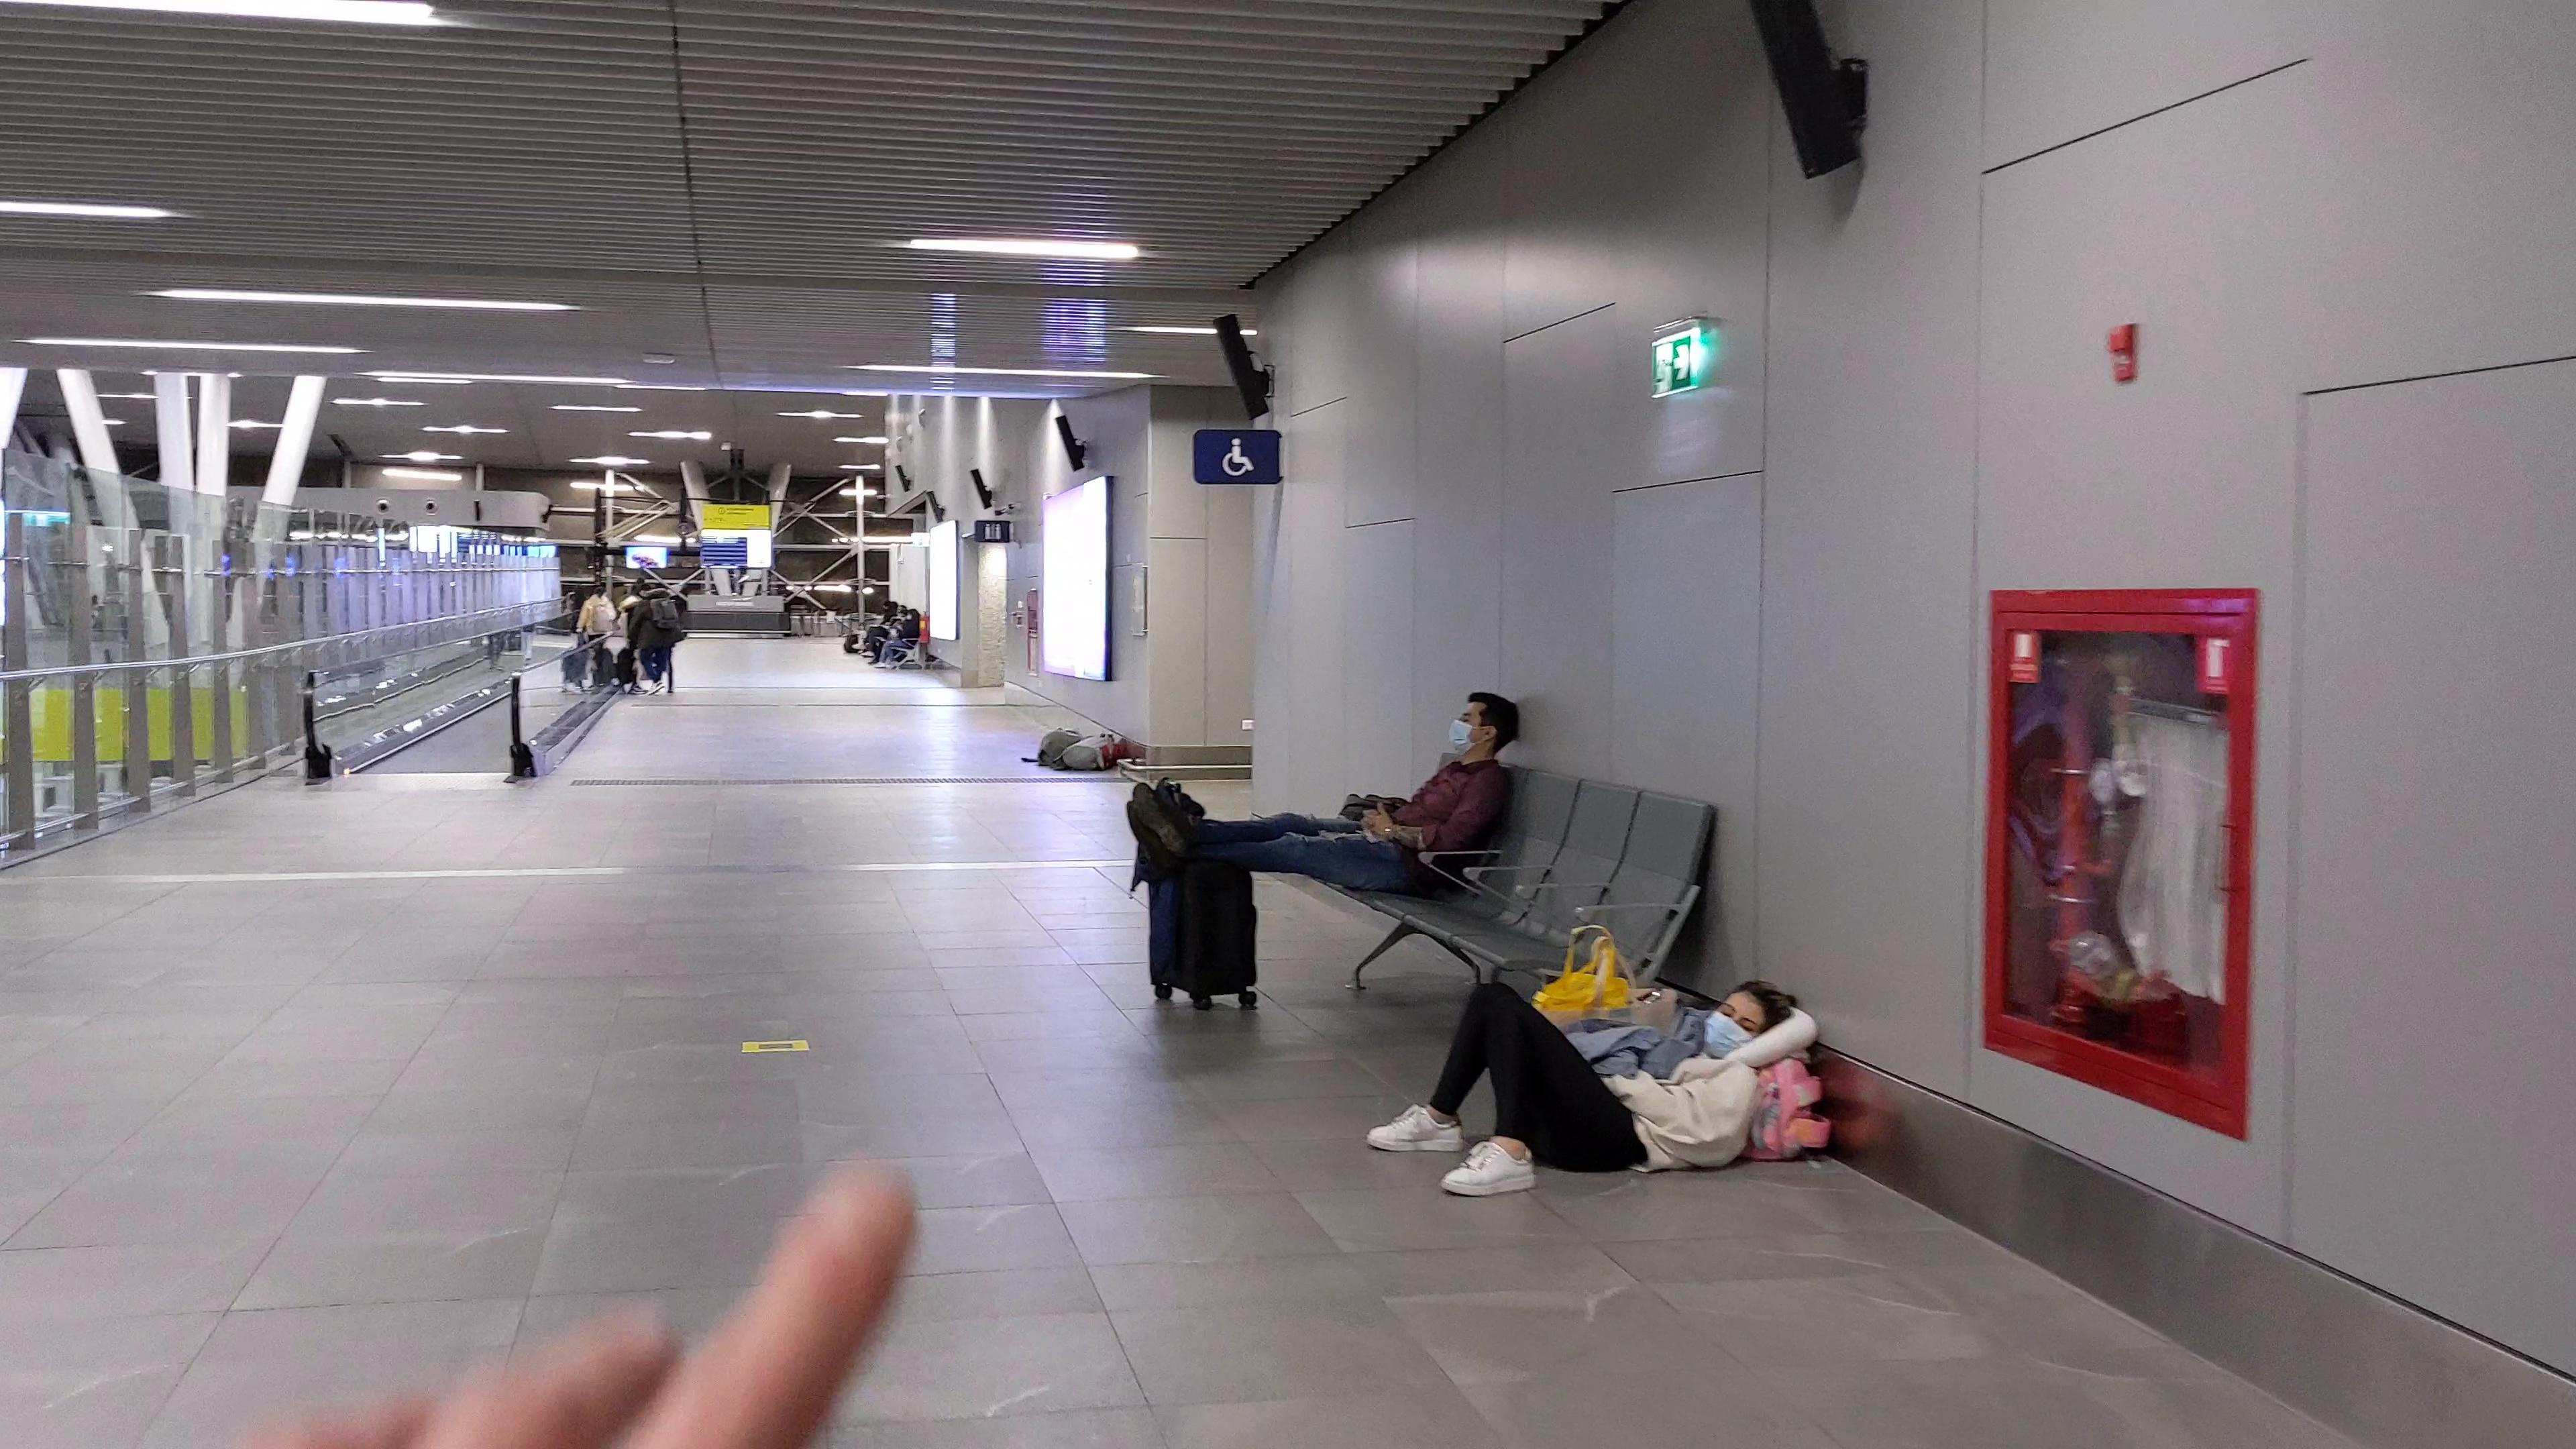emergency exit: (1652, 345, 1674, 393)
emergency right arrow: (1674, 341, 1690, 382)
handicapped symbol: (1223, 439, 1254, 476)
